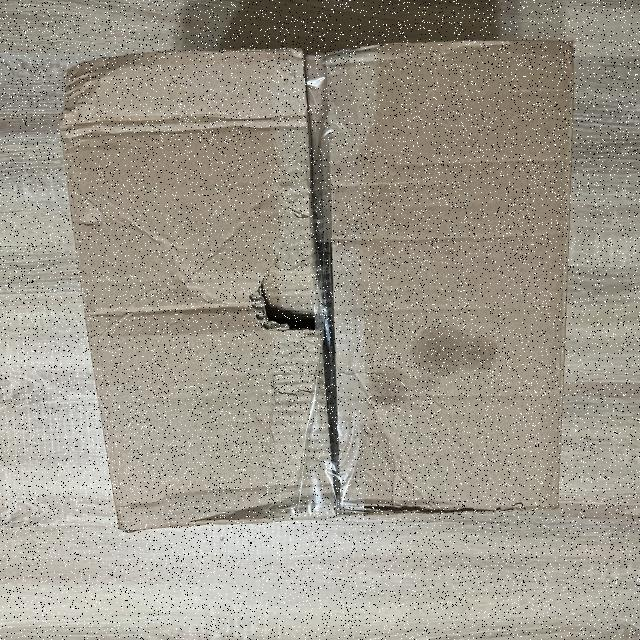damaged: (57, 36, 583, 534), (244, 256, 328, 350), (226, 494, 515, 520), (40, 52, 118, 114)
